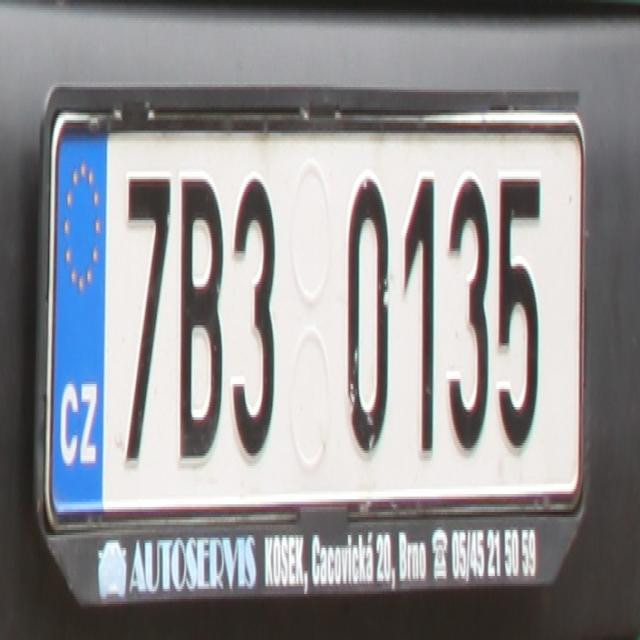0: (346, 177, 390, 456)
1: (398, 174, 440, 463)
3: (230, 169, 275, 466), (447, 174, 490, 456)
5: (498, 177, 540, 448)
7: (121, 166, 168, 468)
B: (176, 164, 224, 463)
